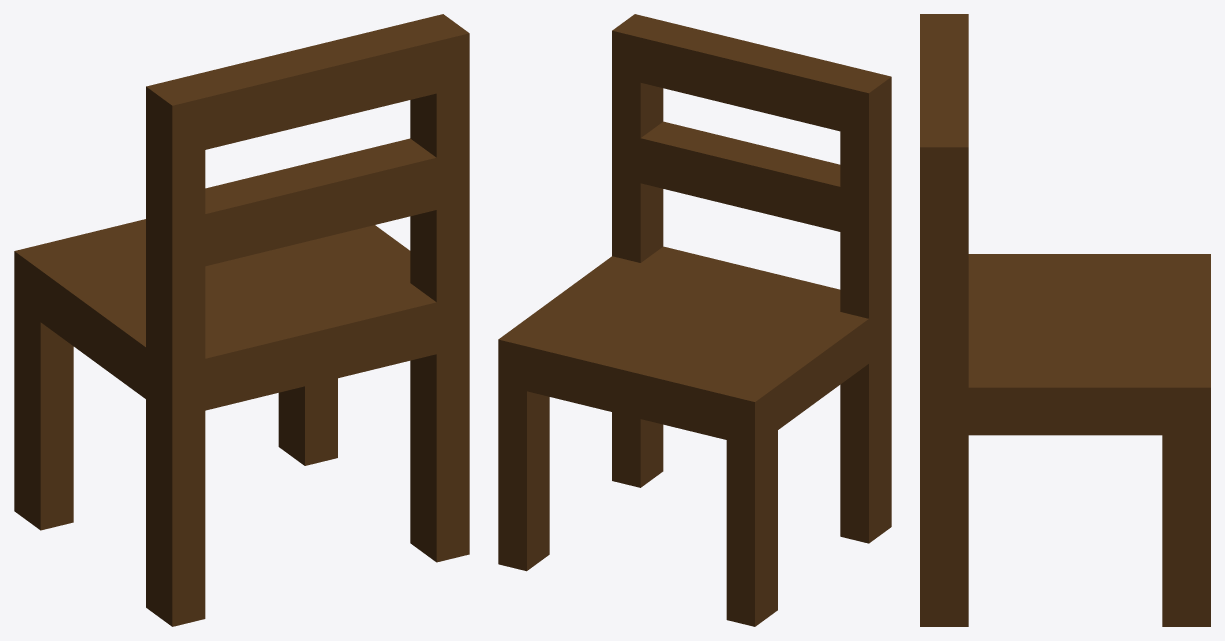
File: Chair.glb
3 views of the same model, side by side, from view 1: azimuth 30°, elevation 25°; view 2: azimuth 150°, elevation 25°; view 3: azimuth 270°, elevation 25° (orthographic). The views are drawn at different scales.
Parts seen in each view (by area): view 1: Cube; view 2: Cube; view 3: Cube.
Boxes of the visible parts, x1=… form: Cube: x1=14, y1=14, x2=469, y2=626; Cube: x1=498, y1=14, x2=891, y2=626; Cube: x1=920, y1=14, x2=1210, y2=626.
Size of the model in its own units: 1.2 by 2.01 by 1.1.
